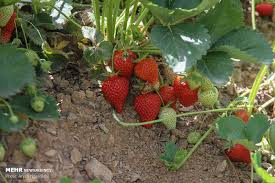ripe: (101, 73, 128, 113), (134, 91, 161, 128), (171, 74, 197, 108), (112, 46, 136, 79), (134, 56, 159, 87), (227, 139, 252, 164), (161, 85, 176, 107), (254, 2, 273, 16), (3, 12, 15, 32), (233, 108, 250, 122), (1, 26, 12, 45)
unripe: (156, 107, 179, 131), (197, 84, 218, 108), (20, 138, 37, 159), (29, 93, 46, 113), (186, 69, 201, 90), (0, 4, 12, 26), (197, 74, 211, 92)
